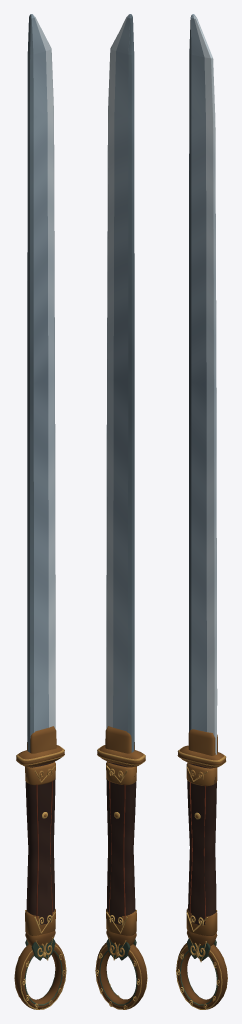
File: tang_dao.obj
3 renders of one model, left to right at view 1: azimuth 30°, elevation 25°; view 2: azimuth 150°, elevation 25°; view 3: azimuth 330°, elevation 25°, orthographic.
Parts seen in each view (by area): view 1: tang_dao; view 2: tang_dao; view 3: tang_dao.
Boxes of the visible parts, <box> form: tang_dao: <box>14,14,66,1009</box>; tang_dao: <box>95,14,147,1009</box>; tang_dao: <box>176,14,227,1009</box>.
Bounding box in the file's own units: 0.1175 × 2.3 × 0.0456.
